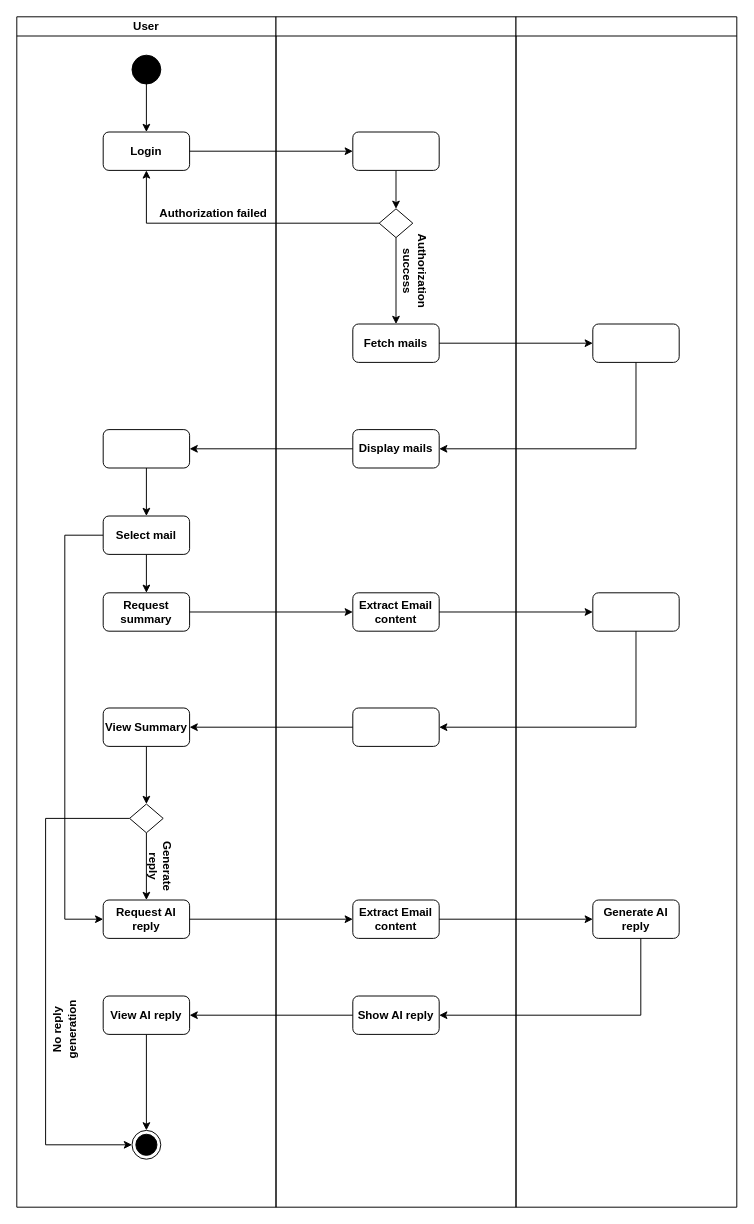
Some shapes in this 754 by 1224 pixel diagram are drawn without their labels. Here are the shapes that lost their labels. From the top down, the box of each, then its label:
(352, 131, 439, 170): Authorize credendials
(592, 323, 679, 362): Categorize mails
(102, 429, 190, 468): View mails
(275, 16, 516, 1207): System
(515, 16, 737, 1207): AI
(592, 592, 679, 631): Generate summary
(352, 707, 439, 746): Display summary
